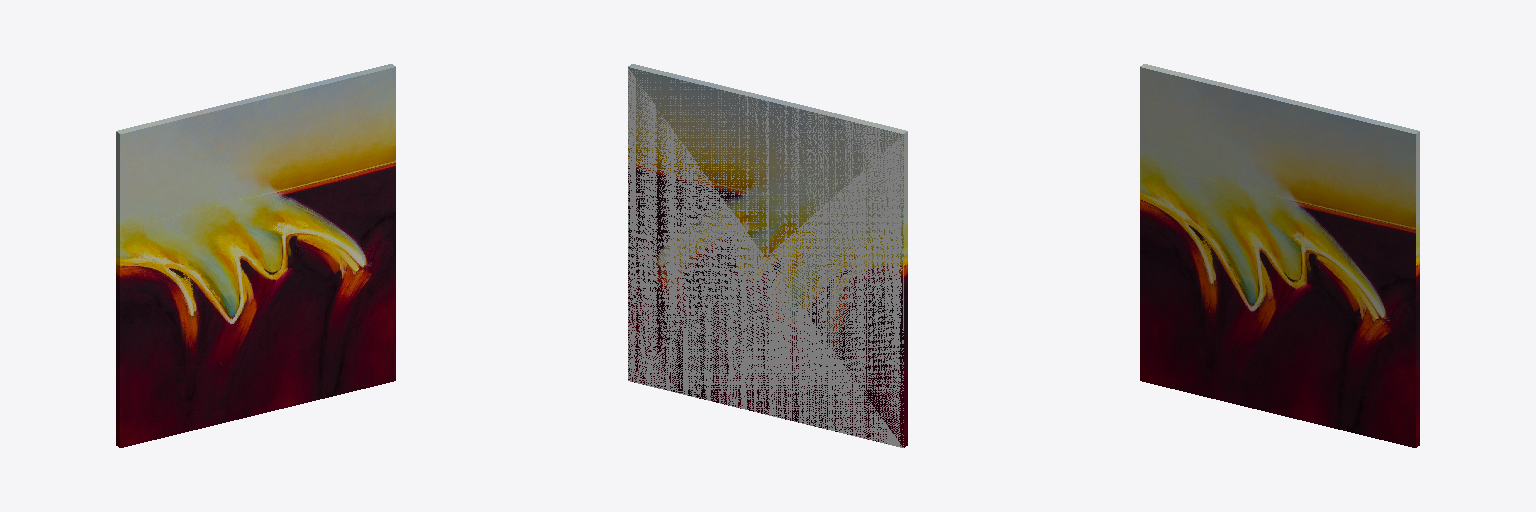
3 renders of one model, left to right at view 1: azimuth 30°, elevation 25°; view 2: azimuth 150°, elevation 25°; view 3: azimuth 330°, elevation 25°, orthographic.
Parts seen in each view (by area): view 1: Mesh1 Group1 Model; view 2: Mesh1 Group1 Model; view 3: Mesh1 Group1 Model.
Boxes of the visible parts, box(x1,y1,x2,y2) form: Mesh1 Group1 Model: box(116, 64, 395, 447); Mesh1 Group1 Model: box(628, 64, 907, 447); Mesh1 Group1 Model: box(1140, 64, 1419, 447).
Size of the model in its own units: 1.4 by 1.52 by 0.04.
2 materials, 1 textured.